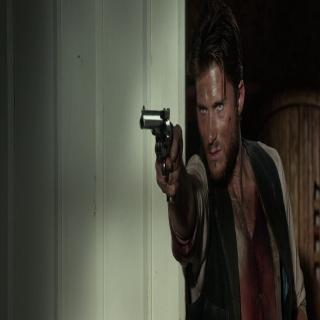gun: (138, 96, 180, 208)
